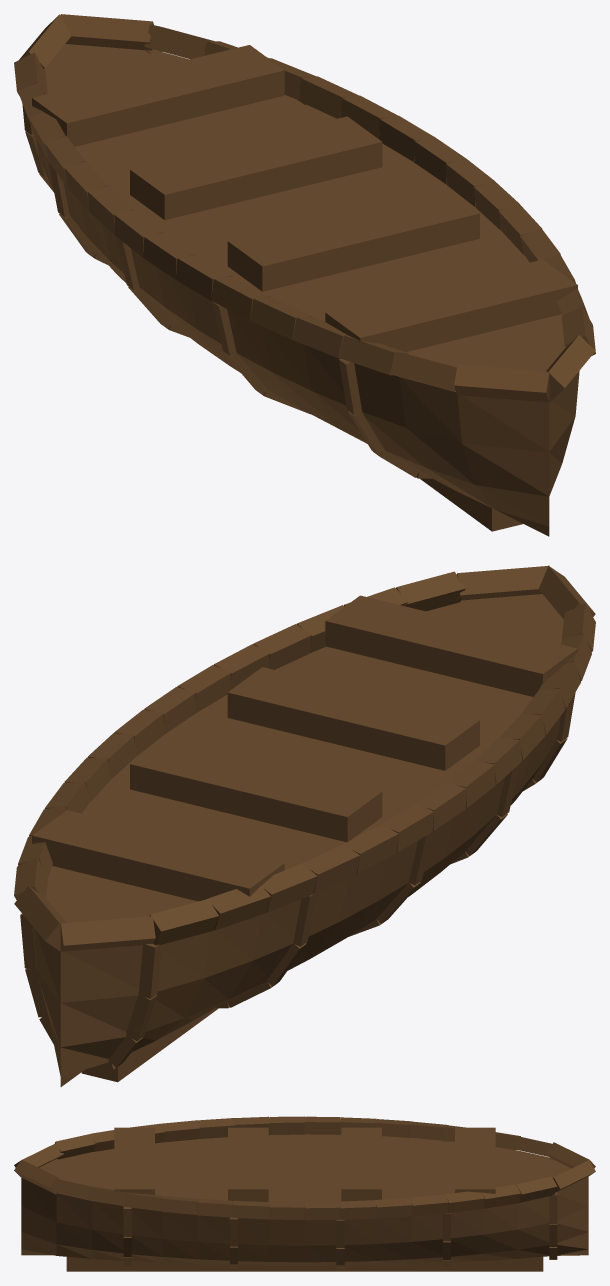
The model's file is FishingBoat.obj.
The picture shows the model from 3 angles, top to bottom: view 1: azimuth 30°, elevation 25°; view 2: azimuth 150°, elevation 25°; view 3: azimuth 270°, elevation 25°; orthographic projection. The views are drawn at different scales.
Visible parts, largest first — view 1: trim, wood; view 2: trim, wood; view 3: wood, trim.
Part boxes in pixels (x1,y1,x2,y2): trim: (14, 14, 595, 402); wood: (22, 44, 579, 536); trim: (14, 565, 595, 951); wood: (20, 594, 575, 1086); wood: (21, 1134, 588, 1271); trim: (14, 1116, 595, 1220).
Bounding box in the file's own units: 1.6 × 0.88 × 4.31.
